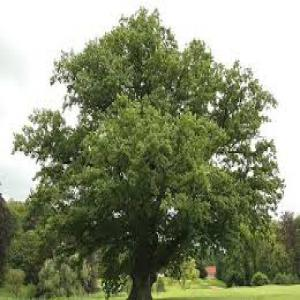Tree: (10, 3, 284, 299)
